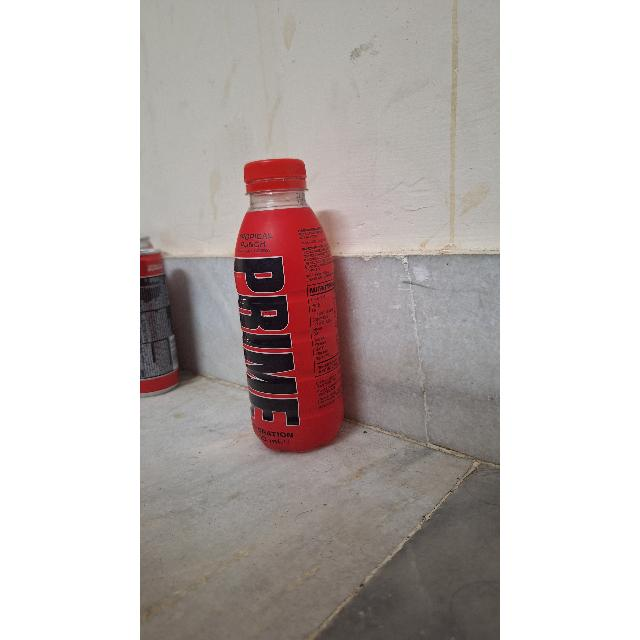Hell Apple: (140, 233, 198, 409)
Prime - Shitass: (227, 158, 355, 458)
